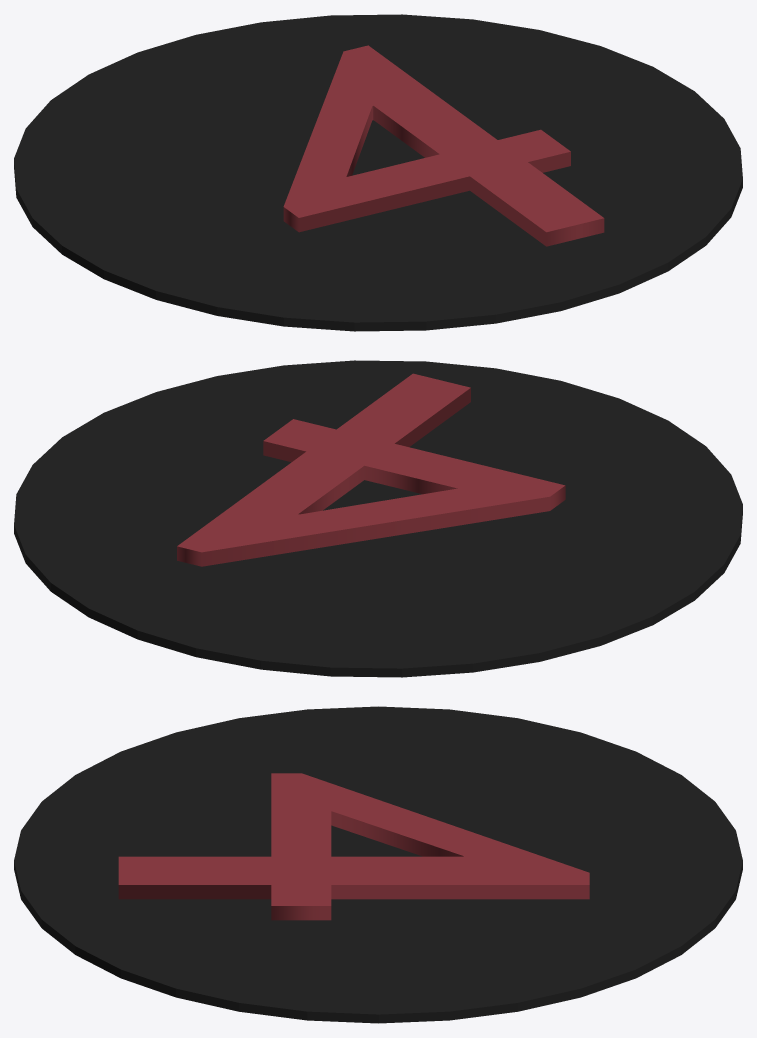
Rendered from four-cirlce.fbx.
3 views of the same model, one above another, from view 1: azimuth 30°, elevation 25°; view 2: azimuth 150°, elevation 25°; view 3: azimuth 270°, elevation 25° (orthographic).
Parts seen in each view (by area): view 1: Cylinder, Text; view 2: Cylinder, Text; view 3: Cylinder, Text.
Boxes of the visible parts, <box> form: Cylinder: <box>14,14,742,331</box>; Text: <box>283,45,604,246</box>; Cylinder: <box>14,360,742,677</box>; Text: <box>177,373,565,566</box>; Cylinder: <box>14,706,742,1023</box>; Text: <box>118,773,589,920</box>.
Bounding box in the file's own units: 141 × 6.67 × 141.
